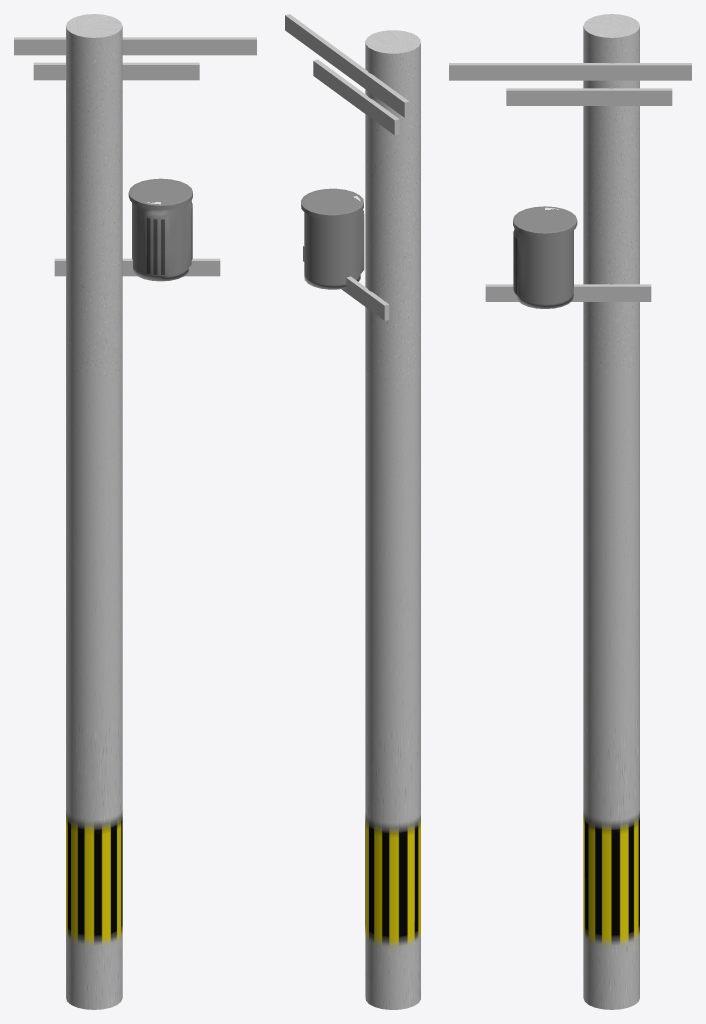
Rendered from oudan_dentyu.fbx.
3 views of the same model, side by side, from view 1: azimuth 90°, elevation 25°; view 2: azimuth 210°, elevation 25°; view 3: azimuth 270°, elevation 25° (orthographic).
Parts seen in each view (by area): view 1: polySurface3; view 2: polySurface3; view 3: polySurface3.
Part boxes in pixels (x1,y1,x2,y2): polySurface3: (14, 14, 256, 1009); polySurface3: (285, 14, 420, 1009); polySurface3: (449, 14, 691, 1009).
Bounding box in the file's own units: 165 × 1890 × 428.
Materials: 1 (1 with a texture image).
